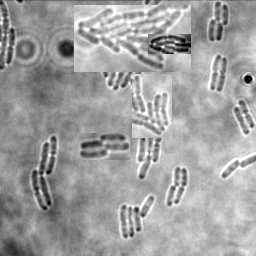Dividing: (175, 167, 189, 204), (238, 99, 255, 128), (209, 54, 222, 90), (217, 56, 228, 92), (7, 27, 17, 64)
Microcolony: (74, 5, 191, 72), (132, 74, 172, 138), (32, 135, 57, 211), (120, 195, 155, 238), (78, 133, 130, 160), (137, 138, 168, 180), (208, 1, 229, 42), (148, 34, 191, 54)
Rod: (233, 106, 251, 135), (222, 157, 240, 178), (167, 184, 177, 206), (174, 166, 183, 187)
